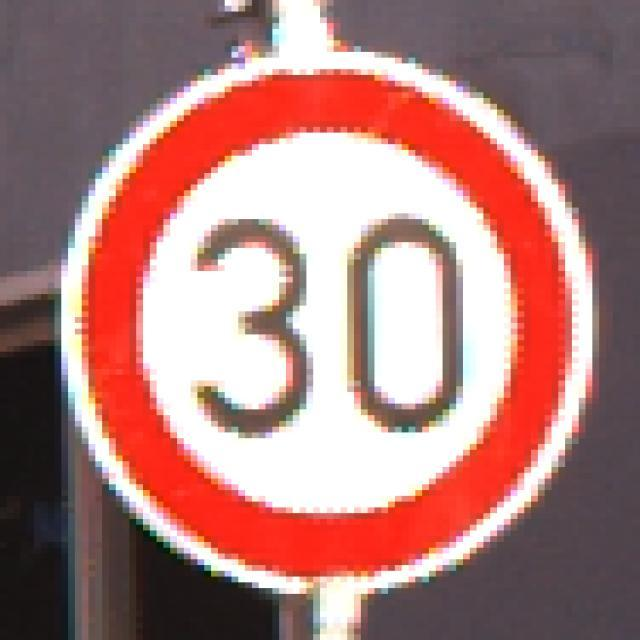speed limit 30: (72, 56, 585, 586)
